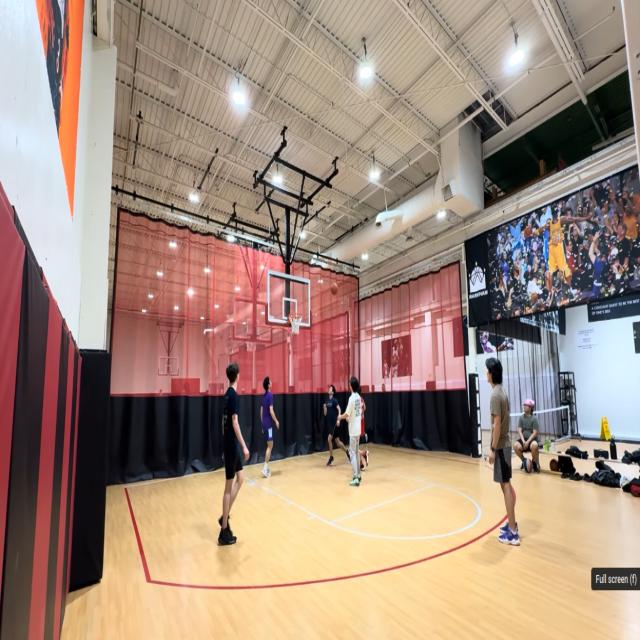Basketball: (331, 282, 338, 295)
Basketball Rim: (289, 312, 302, 335)
Player: (484, 357, 522, 545), (217, 362, 250, 544), (337, 376, 362, 486), (323, 384, 350, 470), (258, 376, 279, 478), (513, 398, 540, 475)
